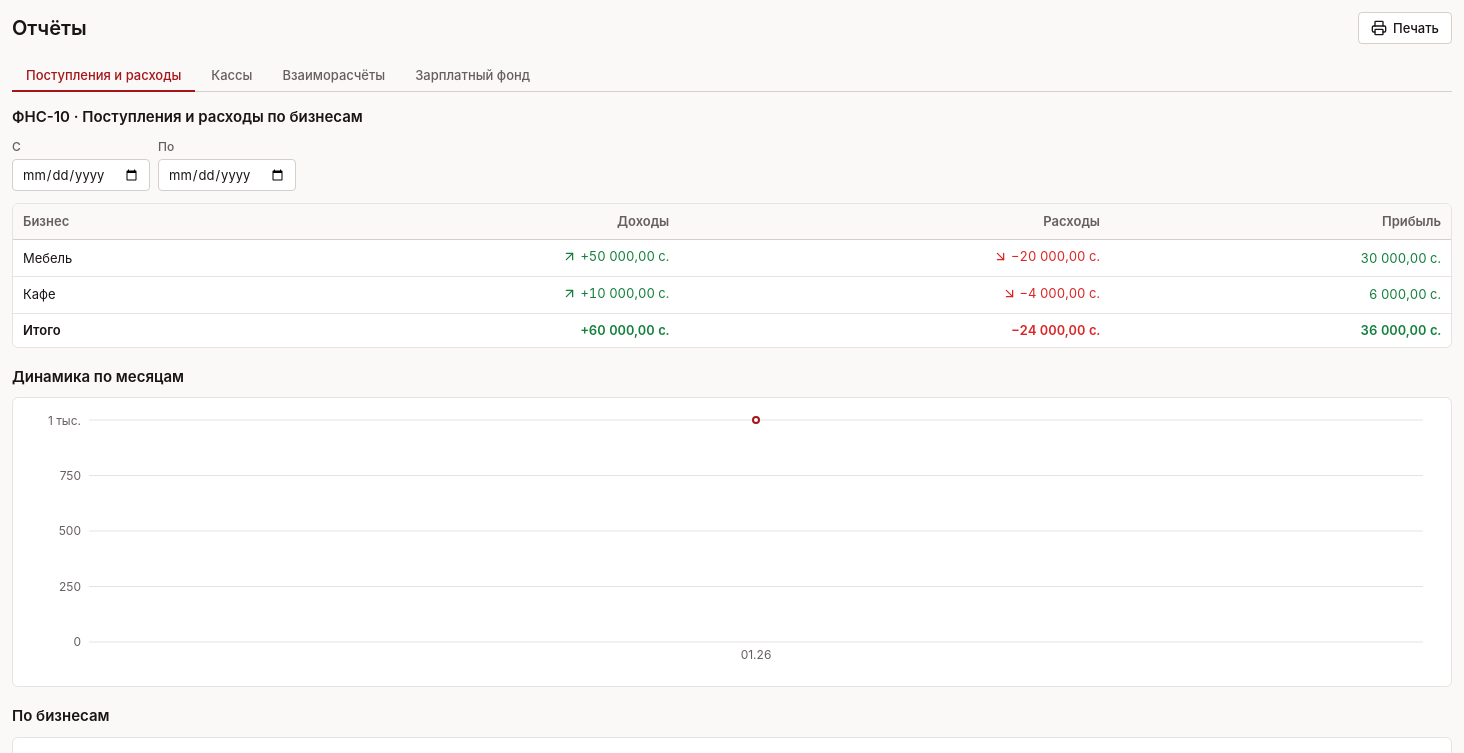
Test case: ReportsPage › ФНС-11: показывает badge при превышении лимита кассы
Click the tab "Кассы" at (232, 76), box [197,60,266,92]
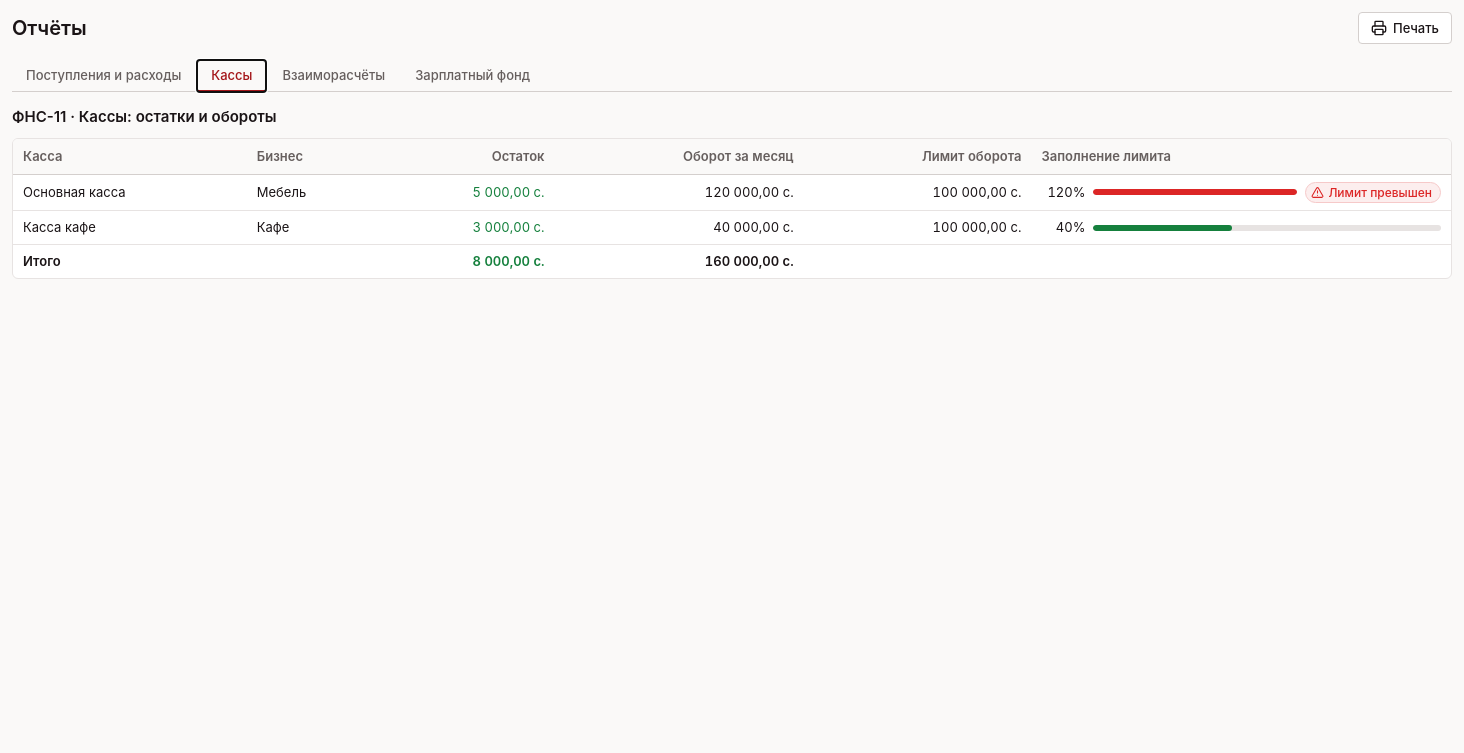
Now the text "Основная касса" is shown, box [13,174,247,211]
Now the text "Лимит превышен" is shown once, box [1305,182,1441,203]
